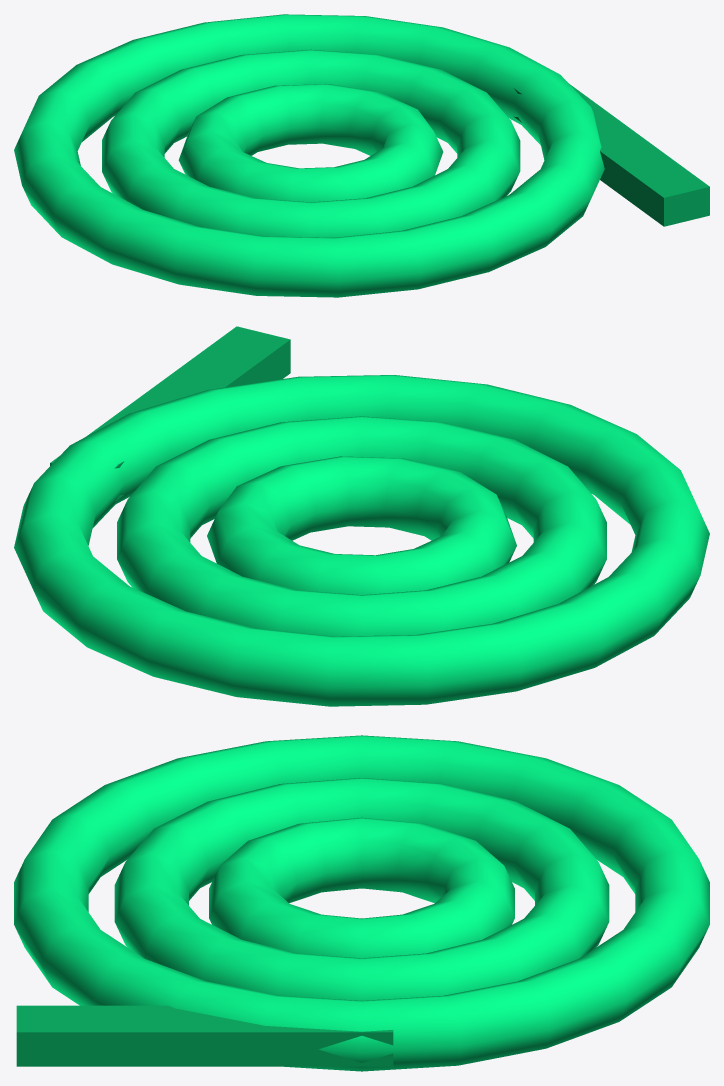
File: resortes_reloj.glb
3 renders of one model, top to bottom at view 1: azimuth 30°, elevation 25°; view 2: azimuth 150°, elevation 25°; view 3: azimuth 270°, elevation 25°, orthographic. The views are drawn at different scales.
Parts seen in each view (by area): view 1: Body, Detail; view 2: Body, Detail; view 3: Body, Detail.
Part boxes in pixels (x1=…): Body: x1=14, y1=14, x2=604, y2=297; Detail: x1=514, y1=83, x2=709, y2=226; Body: x1=14, y1=375, x2=709, y2=706; Detail: x1=50, y1=326, x2=290, y2=501; Body: x1=14, y1=735, x2=709, y2=1071; Detail: x1=16, y1=1005, x2=393, y2=1066.
Bounding box in the file's own units: 0.224 × 0.024 × 0.2217.
